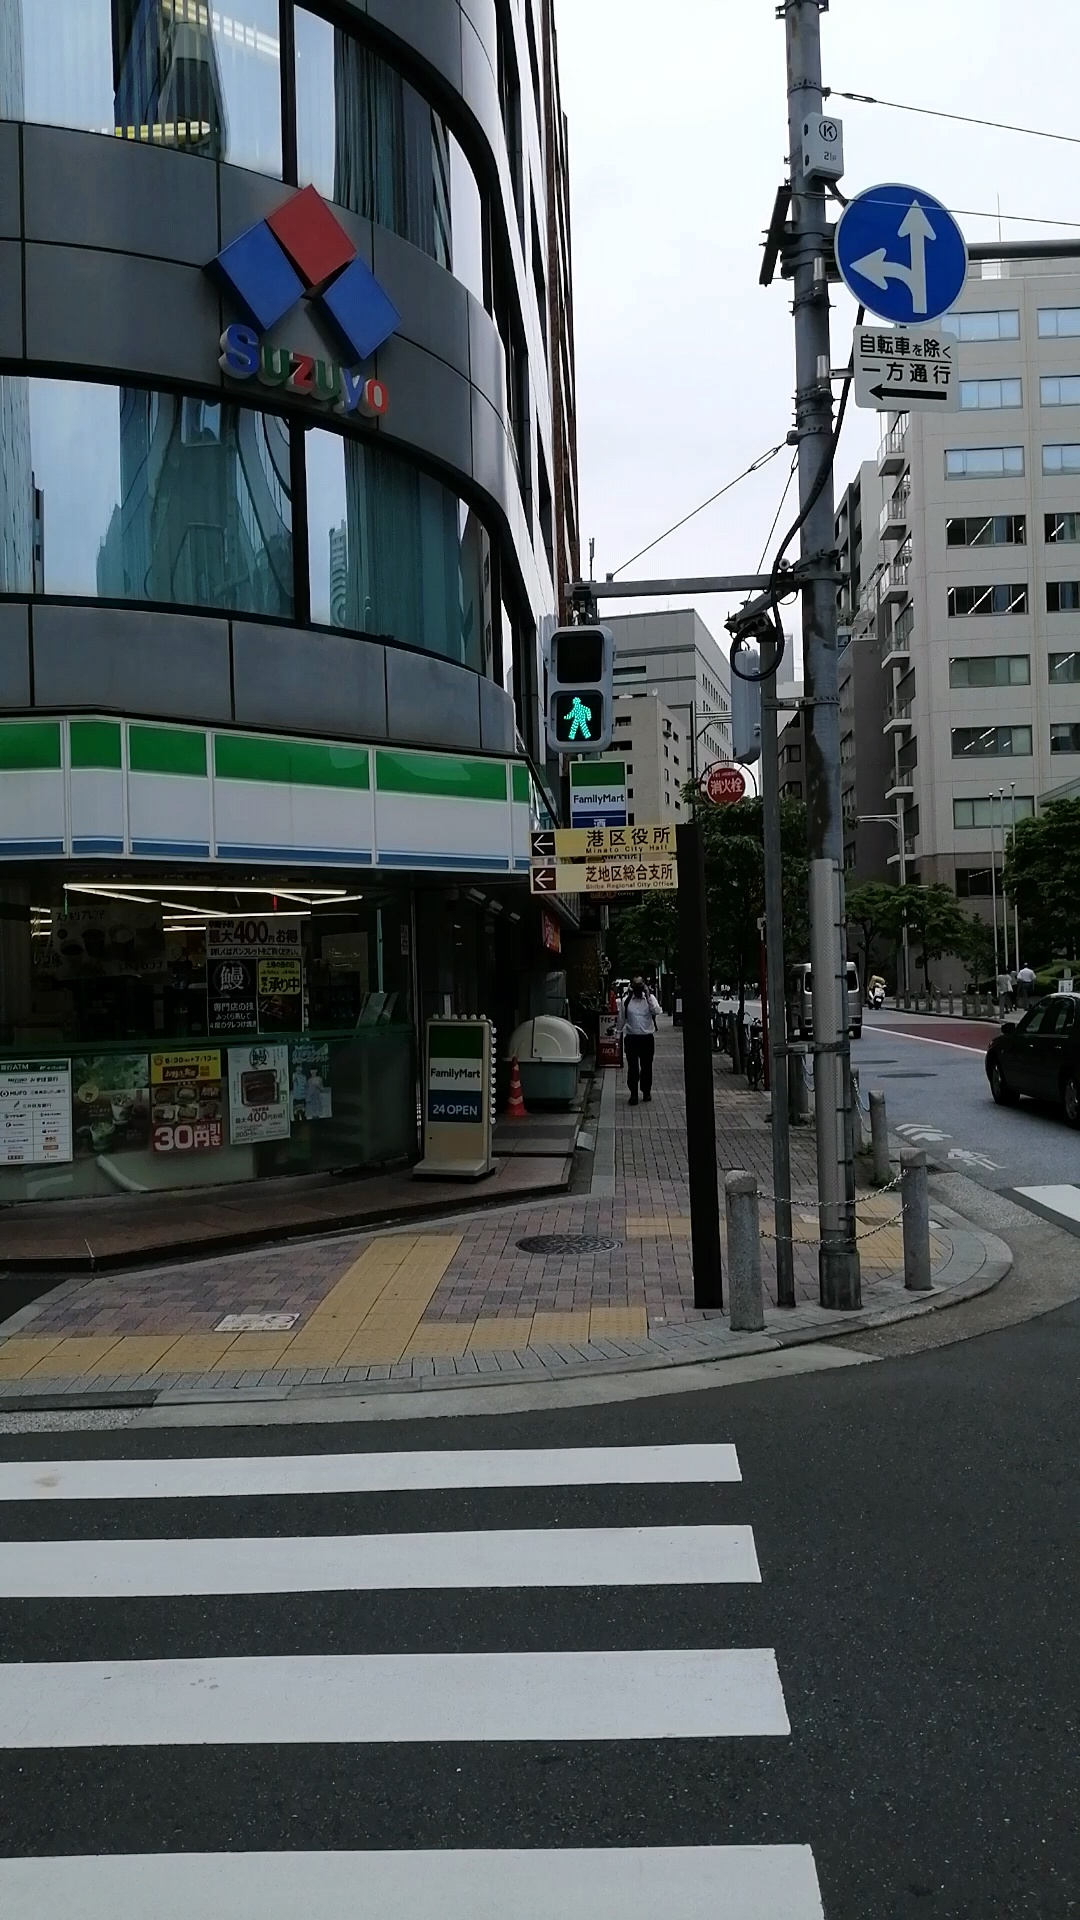green: (541, 622, 611, 748)
